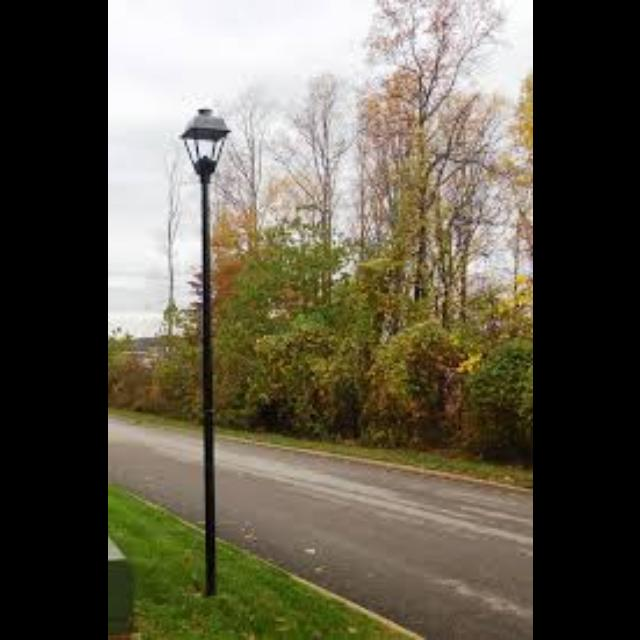Street-Lamp: (156, 76, 258, 604)
